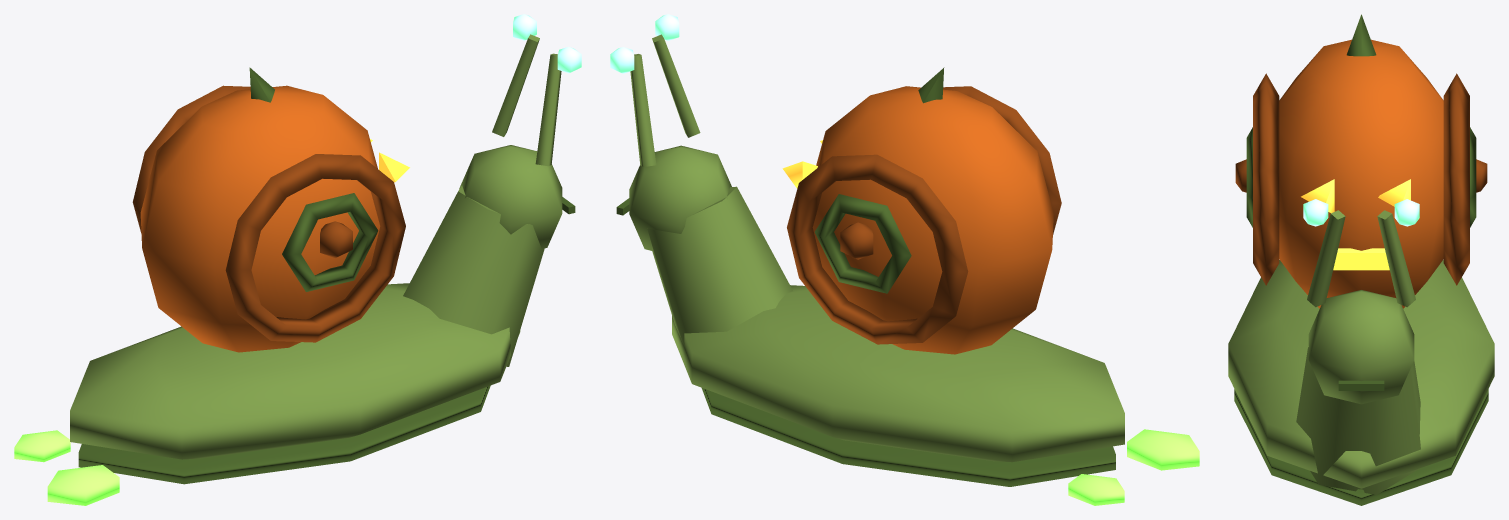
Rendered from enemy_tarSnail.glb.
3 renders of one model, left to right at view 1: azimuth 30°, elevation 25°; view 2: azimuth 150°, elevation 25°; view 3: azimuth 270°, elevation 25°, orthographic. The views are drawn at different scales.
Visible parts, largest first — view 1: foot, shell, neck, shell_coil_r, foot_skirt, head, shell_coil_inner_r, tar_drip_0, shell_coil_l, antenna_r_stalk, tar_drip_1, antenna_l_stalk (+1 smaller); view 2: foot, shell, neck, shell_coil_l, foot_skirt, head, shell_coil_inner_l, tar_drip_0, shell_coil_r, antenna_l_stalk, tar_drip_1, antenna_r_stalk (+1 smaller); view 3: shell, foot, head, neck, shell_coil_l, shell_coil_r, foot_skirt, antenna_l_stalk, antenna_r_stalk, pumpkin_mouth, pumpkin_stem, shell_coil_inner_l (+8 smaller).
Boxes of the visible parts, x1=… form: foot: x1=70, y1=283, x2=520, y2=459; shell: x1=140, y1=85, x2=380, y2=352; neck: x1=403, y1=185, x2=544, y2=366; shell_coil_r: x1=225, y1=154, x2=405, y2=342; foot_skirt: x1=78, y1=385, x2=490, y2=484; head: x1=459, y1=145, x2=562, y2=248; shell_coil_inner_r: x1=282, y1=193, x2=378, y2=291; tar_drip_0: x1=47, y1=465, x2=119, y2=505; shell_coil_l: x1=132, y1=85, x2=250, y2=233; antenna_r_stalk: x1=535, y1=53, x2=561, y2=166; tar_drip_1: x1=14, y1=430, x2=70, y2=462; antenna_l_stalk: x1=492, y1=34, x2=539, y2=136; foot: x1=672, y1=285, x2=1124, y2=462; shell: x1=812, y1=86, x2=1053, y2=354; neck: x1=647, y1=186, x2=792, y2=346; shell_coil_l: x1=787, y1=154, x2=968, y2=344; foot_skirt: x1=701, y1=388, x2=1115, y2=486; head: x1=629, y1=145, x2=731, y2=251; shell_coil_inner_l: x1=814, y1=194, x2=911, y2=293; tar_drip_0: x1=1127, y1=429, x2=1199, y2=470; shell_coil_r: x1=943, y1=86, x2=1061, y2=234; antenna_l_stalk: x1=630, y1=54, x2=656, y2=166; tar_drip_1: x1=1068, y1=474, x2=1124, y2=505; antenna_r_stalk: x1=652, y1=34, x2=700, y2=137; shell: x1=1279, y1=39, x2=1443, y2=308; foot: x1=1228, y1=260, x2=1494, y2=488; head: x1=1308, y1=290, x2=1414, y2=404; neck: x1=1296, y1=346, x2=1420, y2=494; shell_coil_l: x1=1443, y1=73, x2=1469, y2=285; shell_coil_r: x1=1253, y1=73, x2=1279, y2=285; foot_skirt: x1=1234, y1=389, x2=1488, y2=505; antenna_l_stalk: x1=1377, y1=210, x2=1415, y2=307; antenna_r_stalk: x1=1307, y1=210, x2=1345, y2=307; pumpkin_mouth: x1=1333, y1=248, x2=1389, y2=270; pumpkin_stem: x1=1346, y1=14, x2=1376, y2=56; shell_coil_inner_l: x1=1470, y1=127, x2=1476, y2=227.
Bounding box in the file's own units: 0.3368 × 0.2181 × 0.1398.
